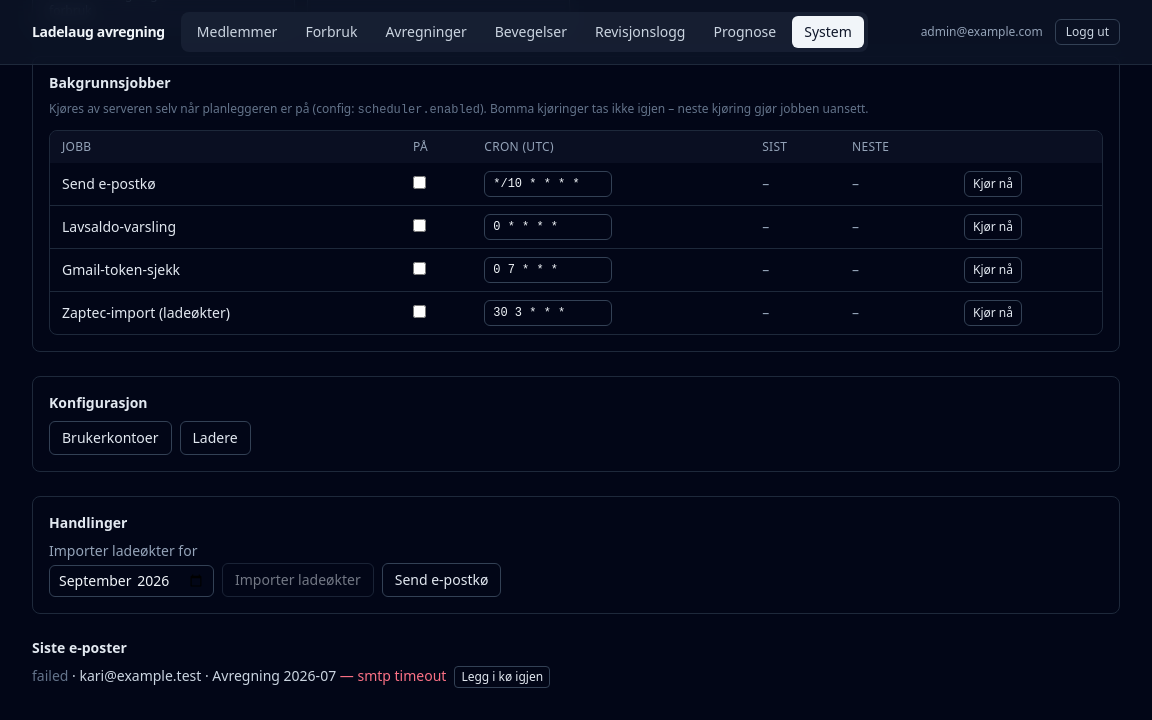
it: SystemHealth (admin) › puts a failed email back on the queue
This screenshot has width=1152, height=720.
(page scrolled)
Click the button "Legg i kø igjen": x=502, y=677 [454,666,550,688]
(page scrolled)
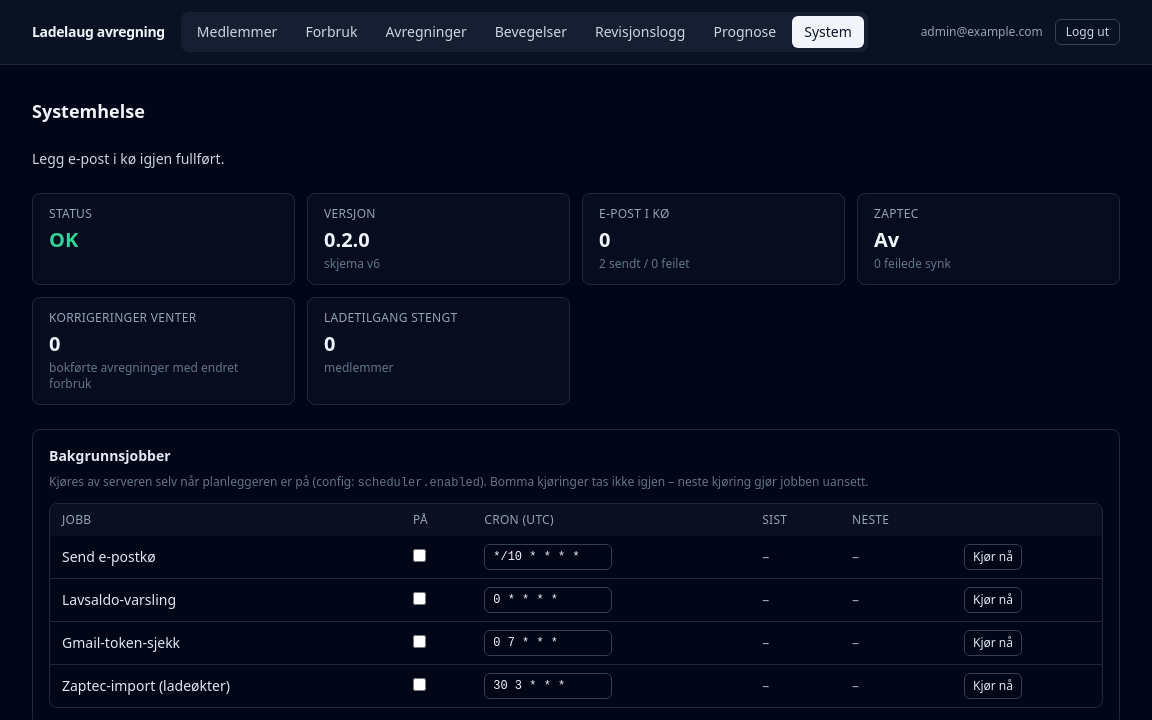
Result: the text "Legg e-post i kø igjen fullført." is shown at [32,149,224,168]
